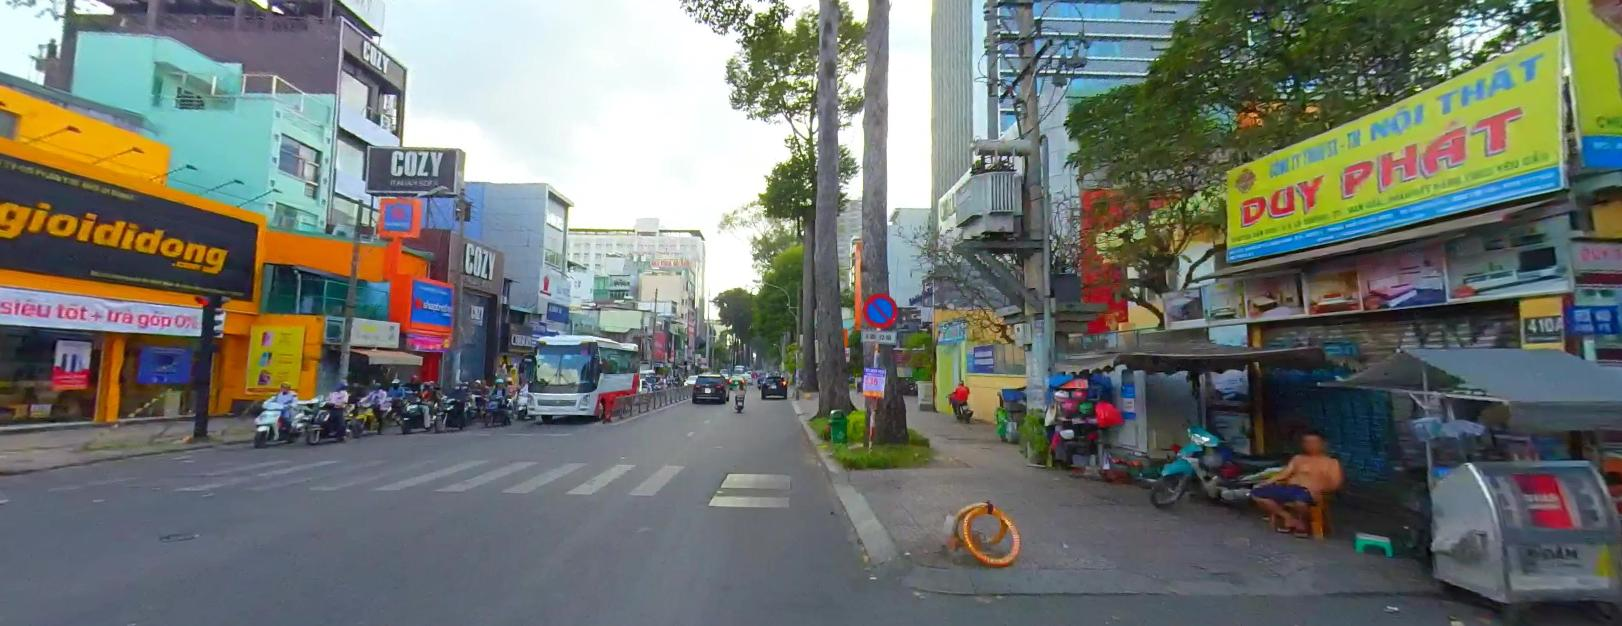Cam dung va do: (862, 291, 897, 328)
